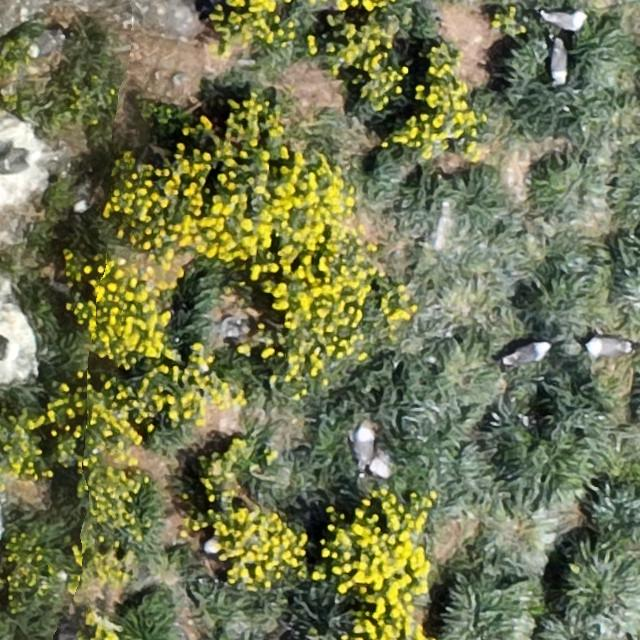umineko: (5, 144, 41, 178), (506, 342, 546, 363), (544, 12, 585, 30), (586, 338, 625, 356), (31, 34, 60, 58), (355, 428, 373, 464), (550, 44, 566, 83)
